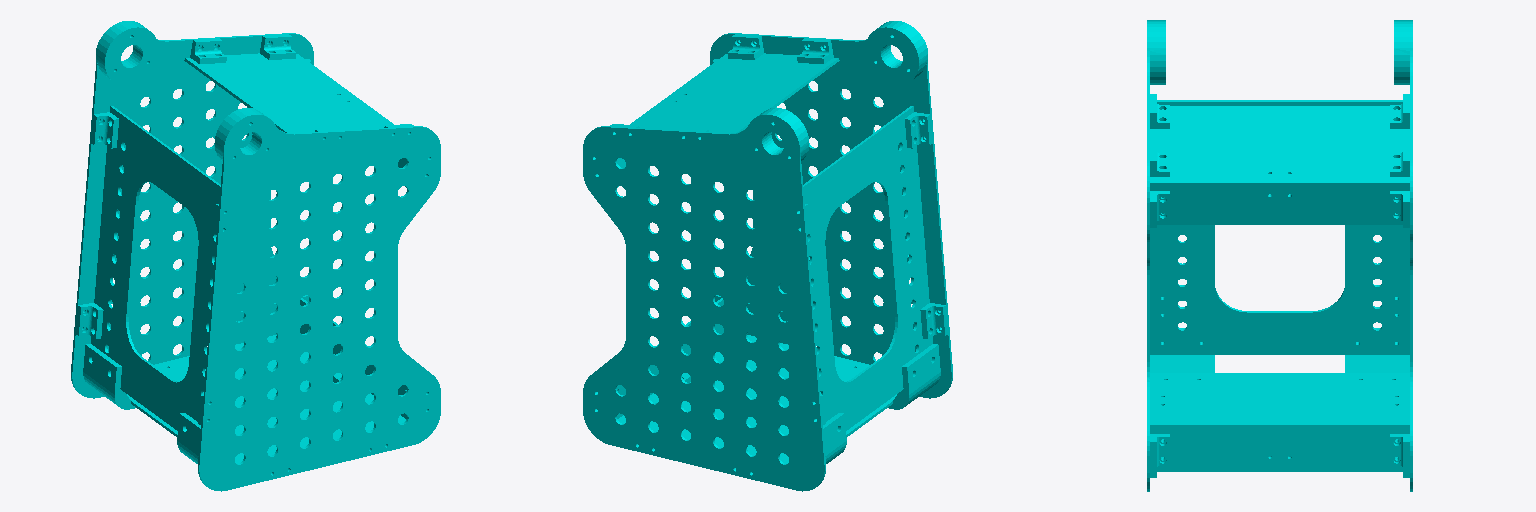
robot.urdf — pylone:
<?xml version="1.0" ?>
<robot name="pylone">
   <material name="grey">
        <color rgba=".5 .5 .5 1" />
    </material>

   <link name="pylone_link">
      <visual>
         <geometry>
            <mesh filename="package://agimus_demo_07_deburring/urdf/meshes/pylone.stl" scale="1.0 1.0 1.0"/>
         </geometry>
         <material name="grey">
            <color rgba="0.0 0.9 0.9 1.0"/>
         </material>
      </visual>
      <collision>
         <geometry>
            <mesh filename="package://agimus_demo_07_deburring/urdf/meshes/pylone.stl" scale="1.0 1.0 1.0"/>
         </geometry>
      </collision>
      <inertial>
         <origin rpy="0 0 0" xyz="0.0 0.0 0.0"/>
         <mass value="0.1"/>
         <inertia ixx="1" ixy="0" ixz="0" iyy="1" iyz="0" izz="1"/>
      </inertial>
   </link>
</robot>

--- Facts derived from the render (not from the file) ---
3 views of the same robot in one strip: view 1: azimuth 30°, elevation 25°; view 2: azimuth 150°, elevation 25°; view 3: azimuth 270°, elevation 25° (orthographic).
Model pylone with 1 links and 0 joints (none), rooted at pylone_link, posed every joint at zero.
Links seen in each view (by area): view 1: pylone_link; view 2: pylone_link; view 3: pylone_link.
Boxes of the visible links, left/top/right/bottom form: pylone_link: left=71, top=21, right=440, bottom=491; pylone_link: left=583, top=21, right=952, bottom=491; pylone_link: left=1147, top=20, right=1412, bottom=491.
Bounding box of the posed robot: 0.4452 × 0.41 × 0.6499 m (x, y, z).
1 mesh visuals loaded from 1 distinct referenced files (1 binary STL).
